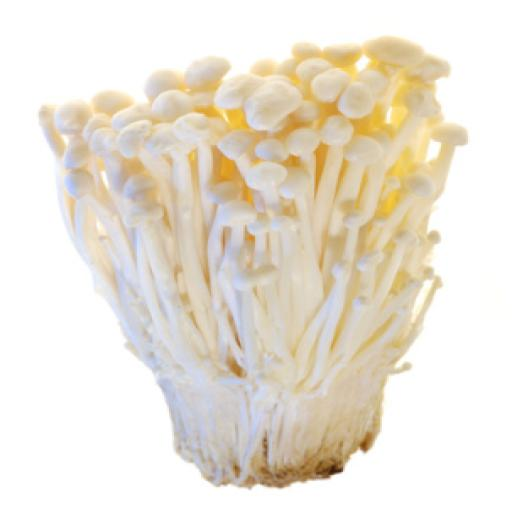Enoki Mushroom: (28, 34, 492, 504)
